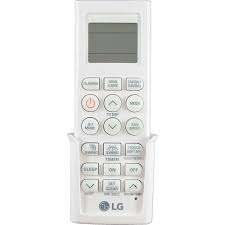remote control: (75, 2, 154, 221)
